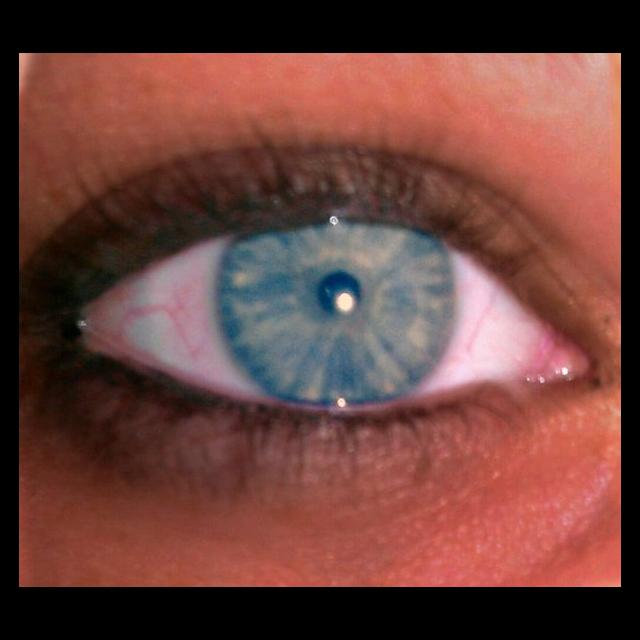eye: (80, 217, 547, 408)
iris: (219, 224, 459, 403)
